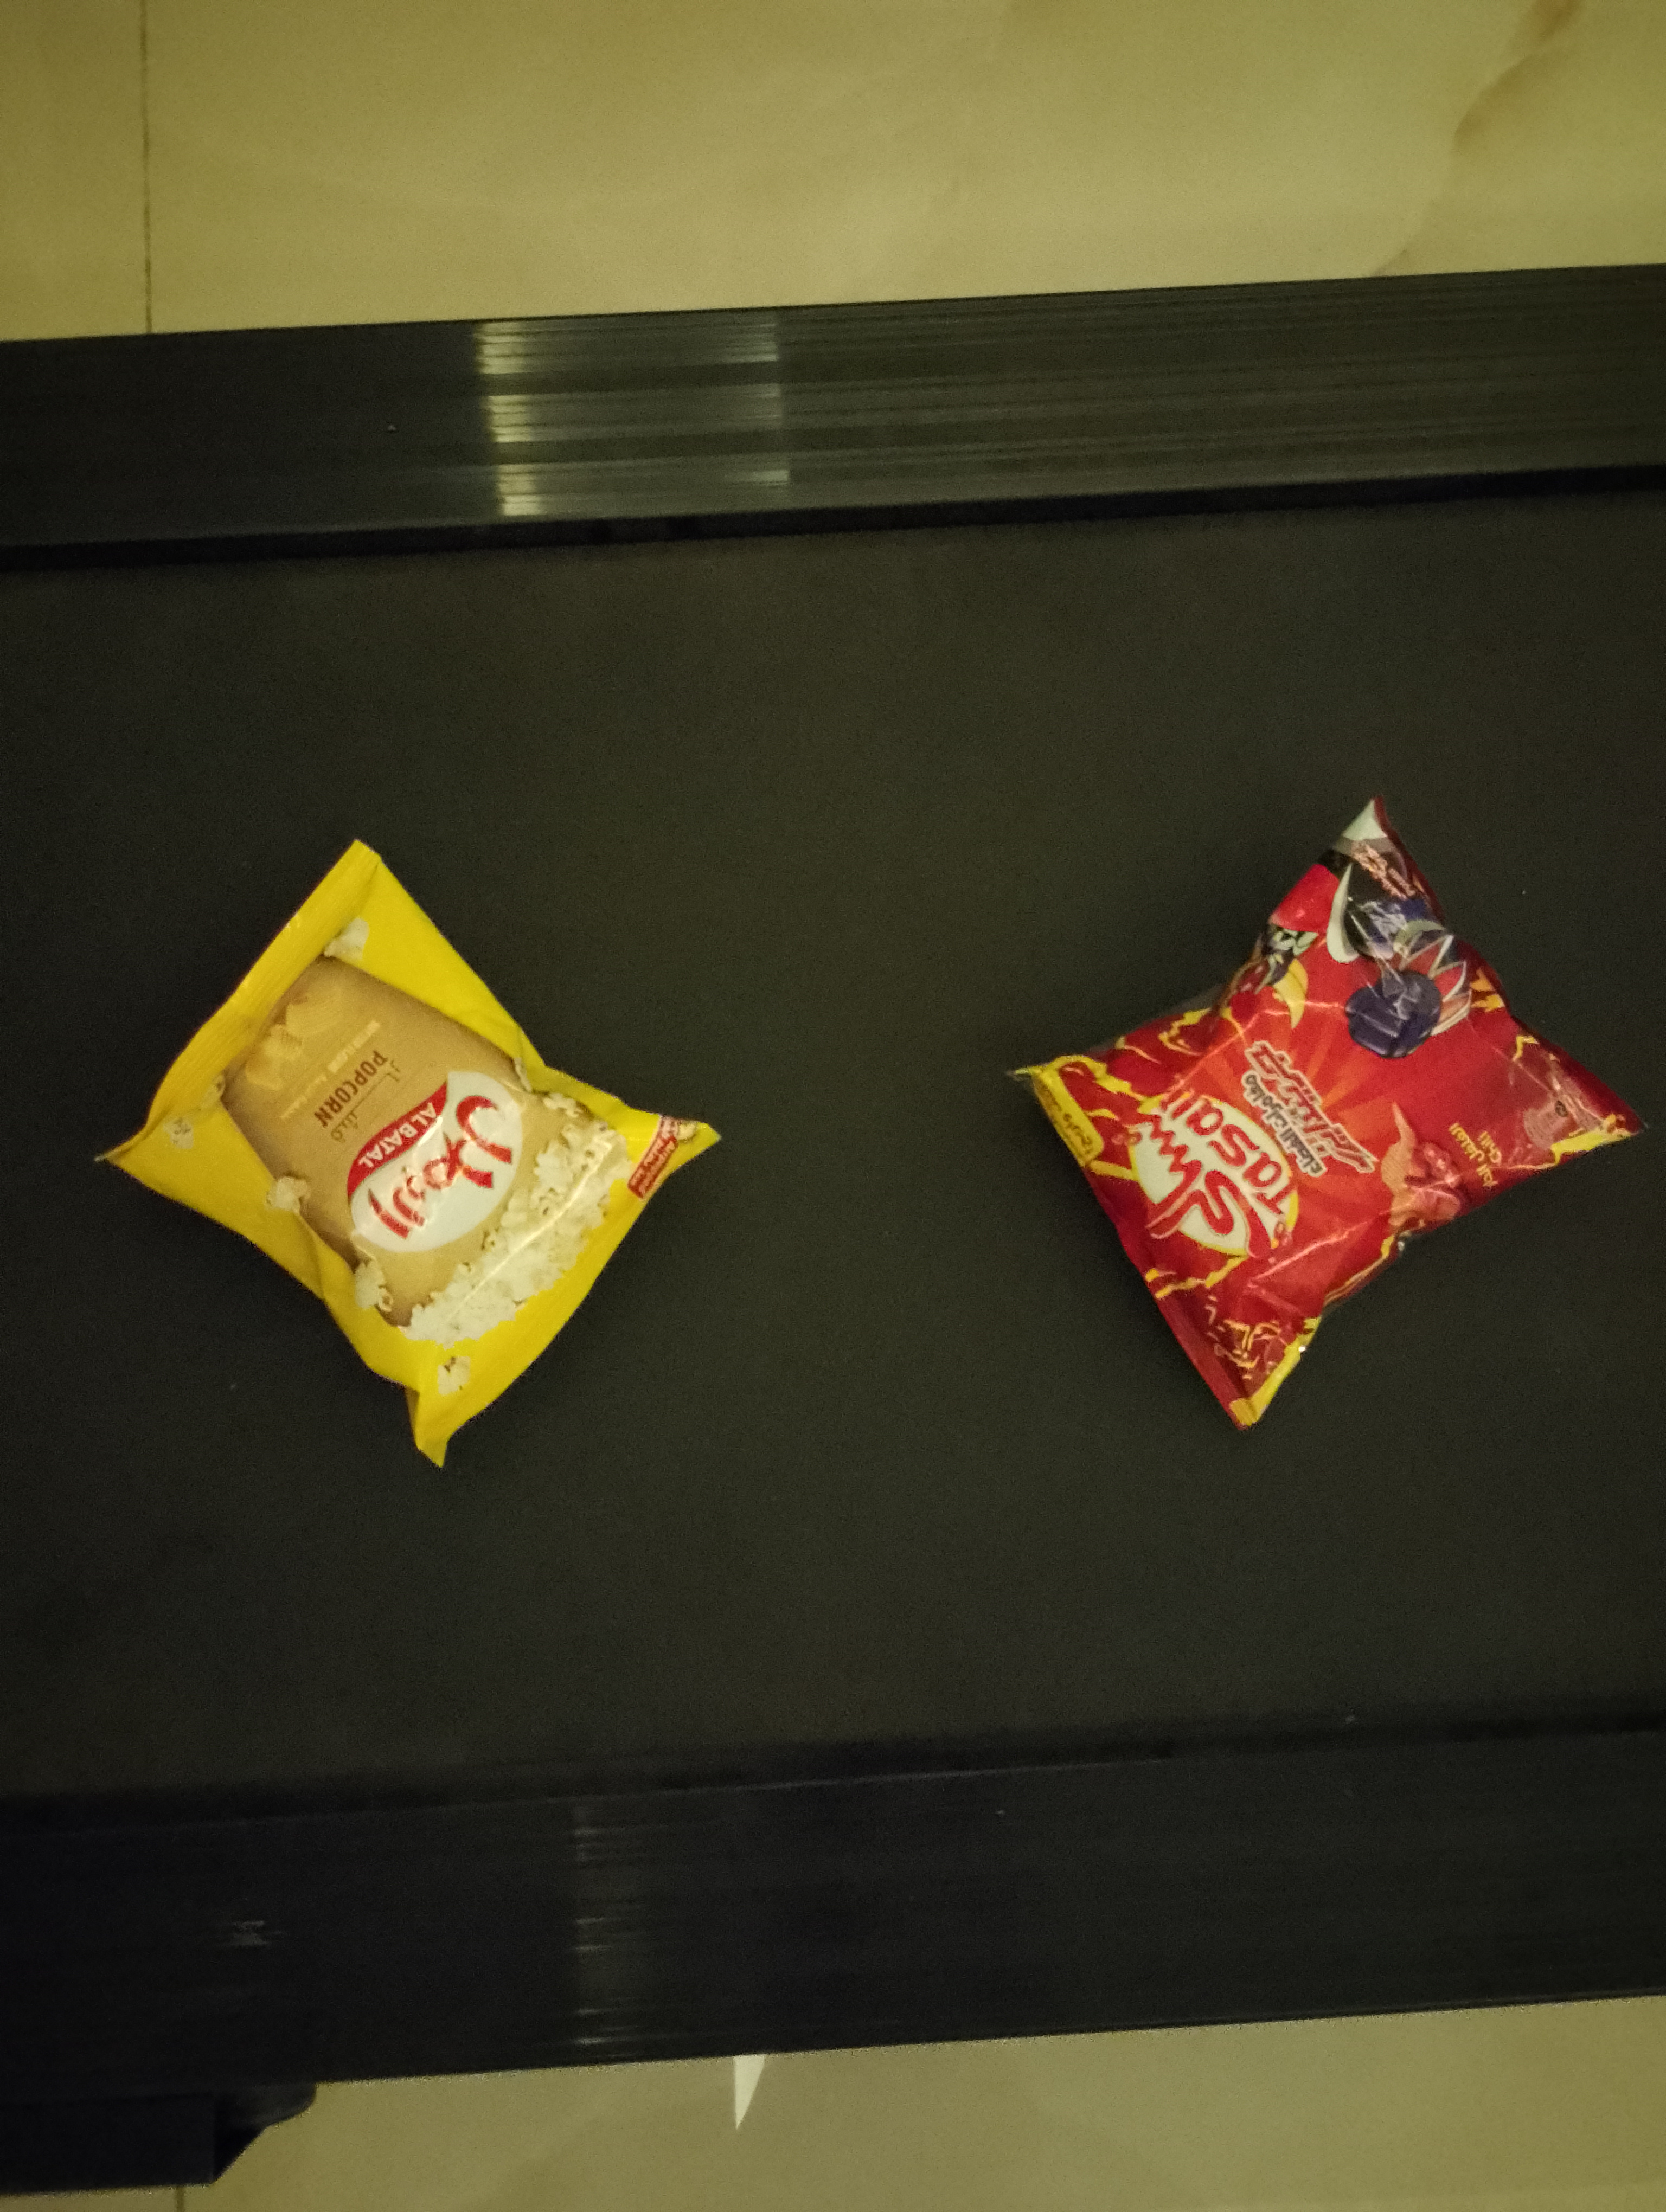albatal_popcorn_butter_flavor: (91, 836, 725, 1472)
tasali_hot_chili: (999, 790, 1656, 1436)
